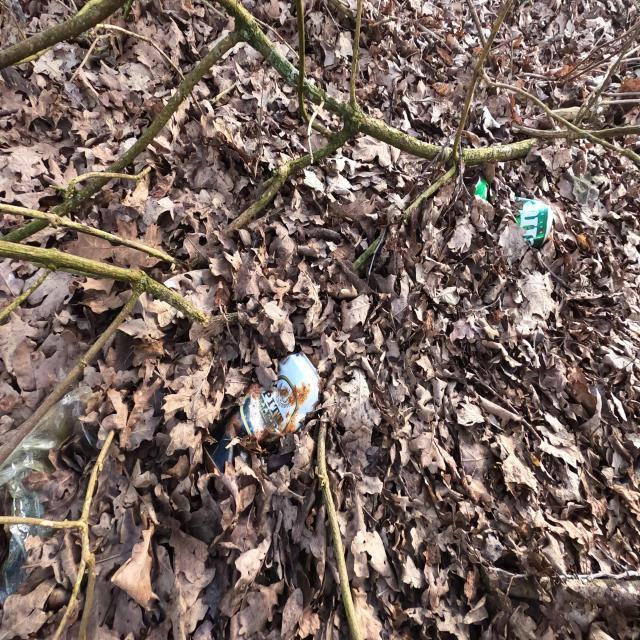Can-Metal: (200, 347, 324, 480), (471, 171, 553, 251)
